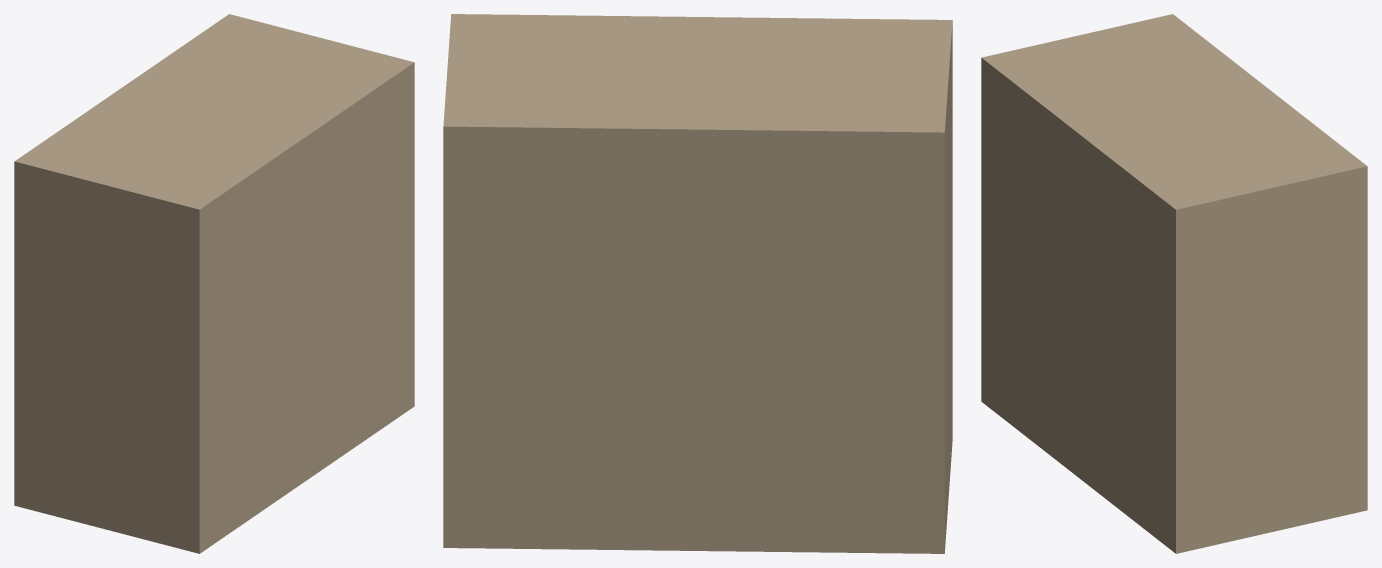
The model's file is bld_106415262.dae.
The picture shows the model from 3 angles, left to right: view 1: azimuth 30°, elevation 25°; view 2: azimuth 150°, elevation 25°; view 3: azimuth 270°, elevation 25°; orthographic projection. The views are drawn at different scales.
Visible parts, largest first — view 1: bld_106415262; view 2: bld_106415262; view 3: bld_106415262.
Boxes of the visible parts, <box> form: bld_106415262: <box>14,14,414,553</box>; bld_106415262: <box>443,14,952,553</box>; bld_106415262: <box>981,14,1367,553</box>.
Size of the model in its own units: 9.77 by 8.14 by 8.
